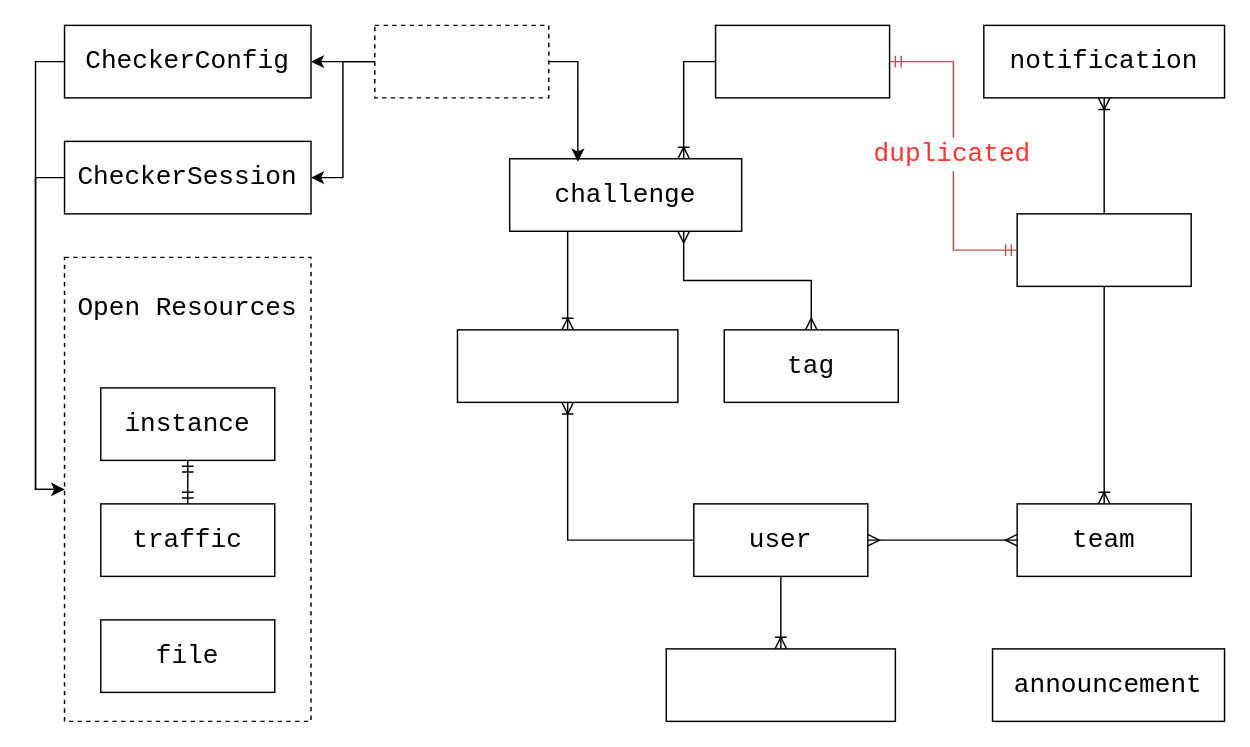
Some shapes in this 1250 by 747 pixel diagram are drawn without their labels. Here are the shapes that lost their labels. From the top down, the centre of each, then its label:
At (x=461, y=61): "checker".
At (x=802, y=61): "category".
At (x=1103, y=249): "game".
At (x=567, y=365): "submission".
At (x=780, y=684): "ip address".
